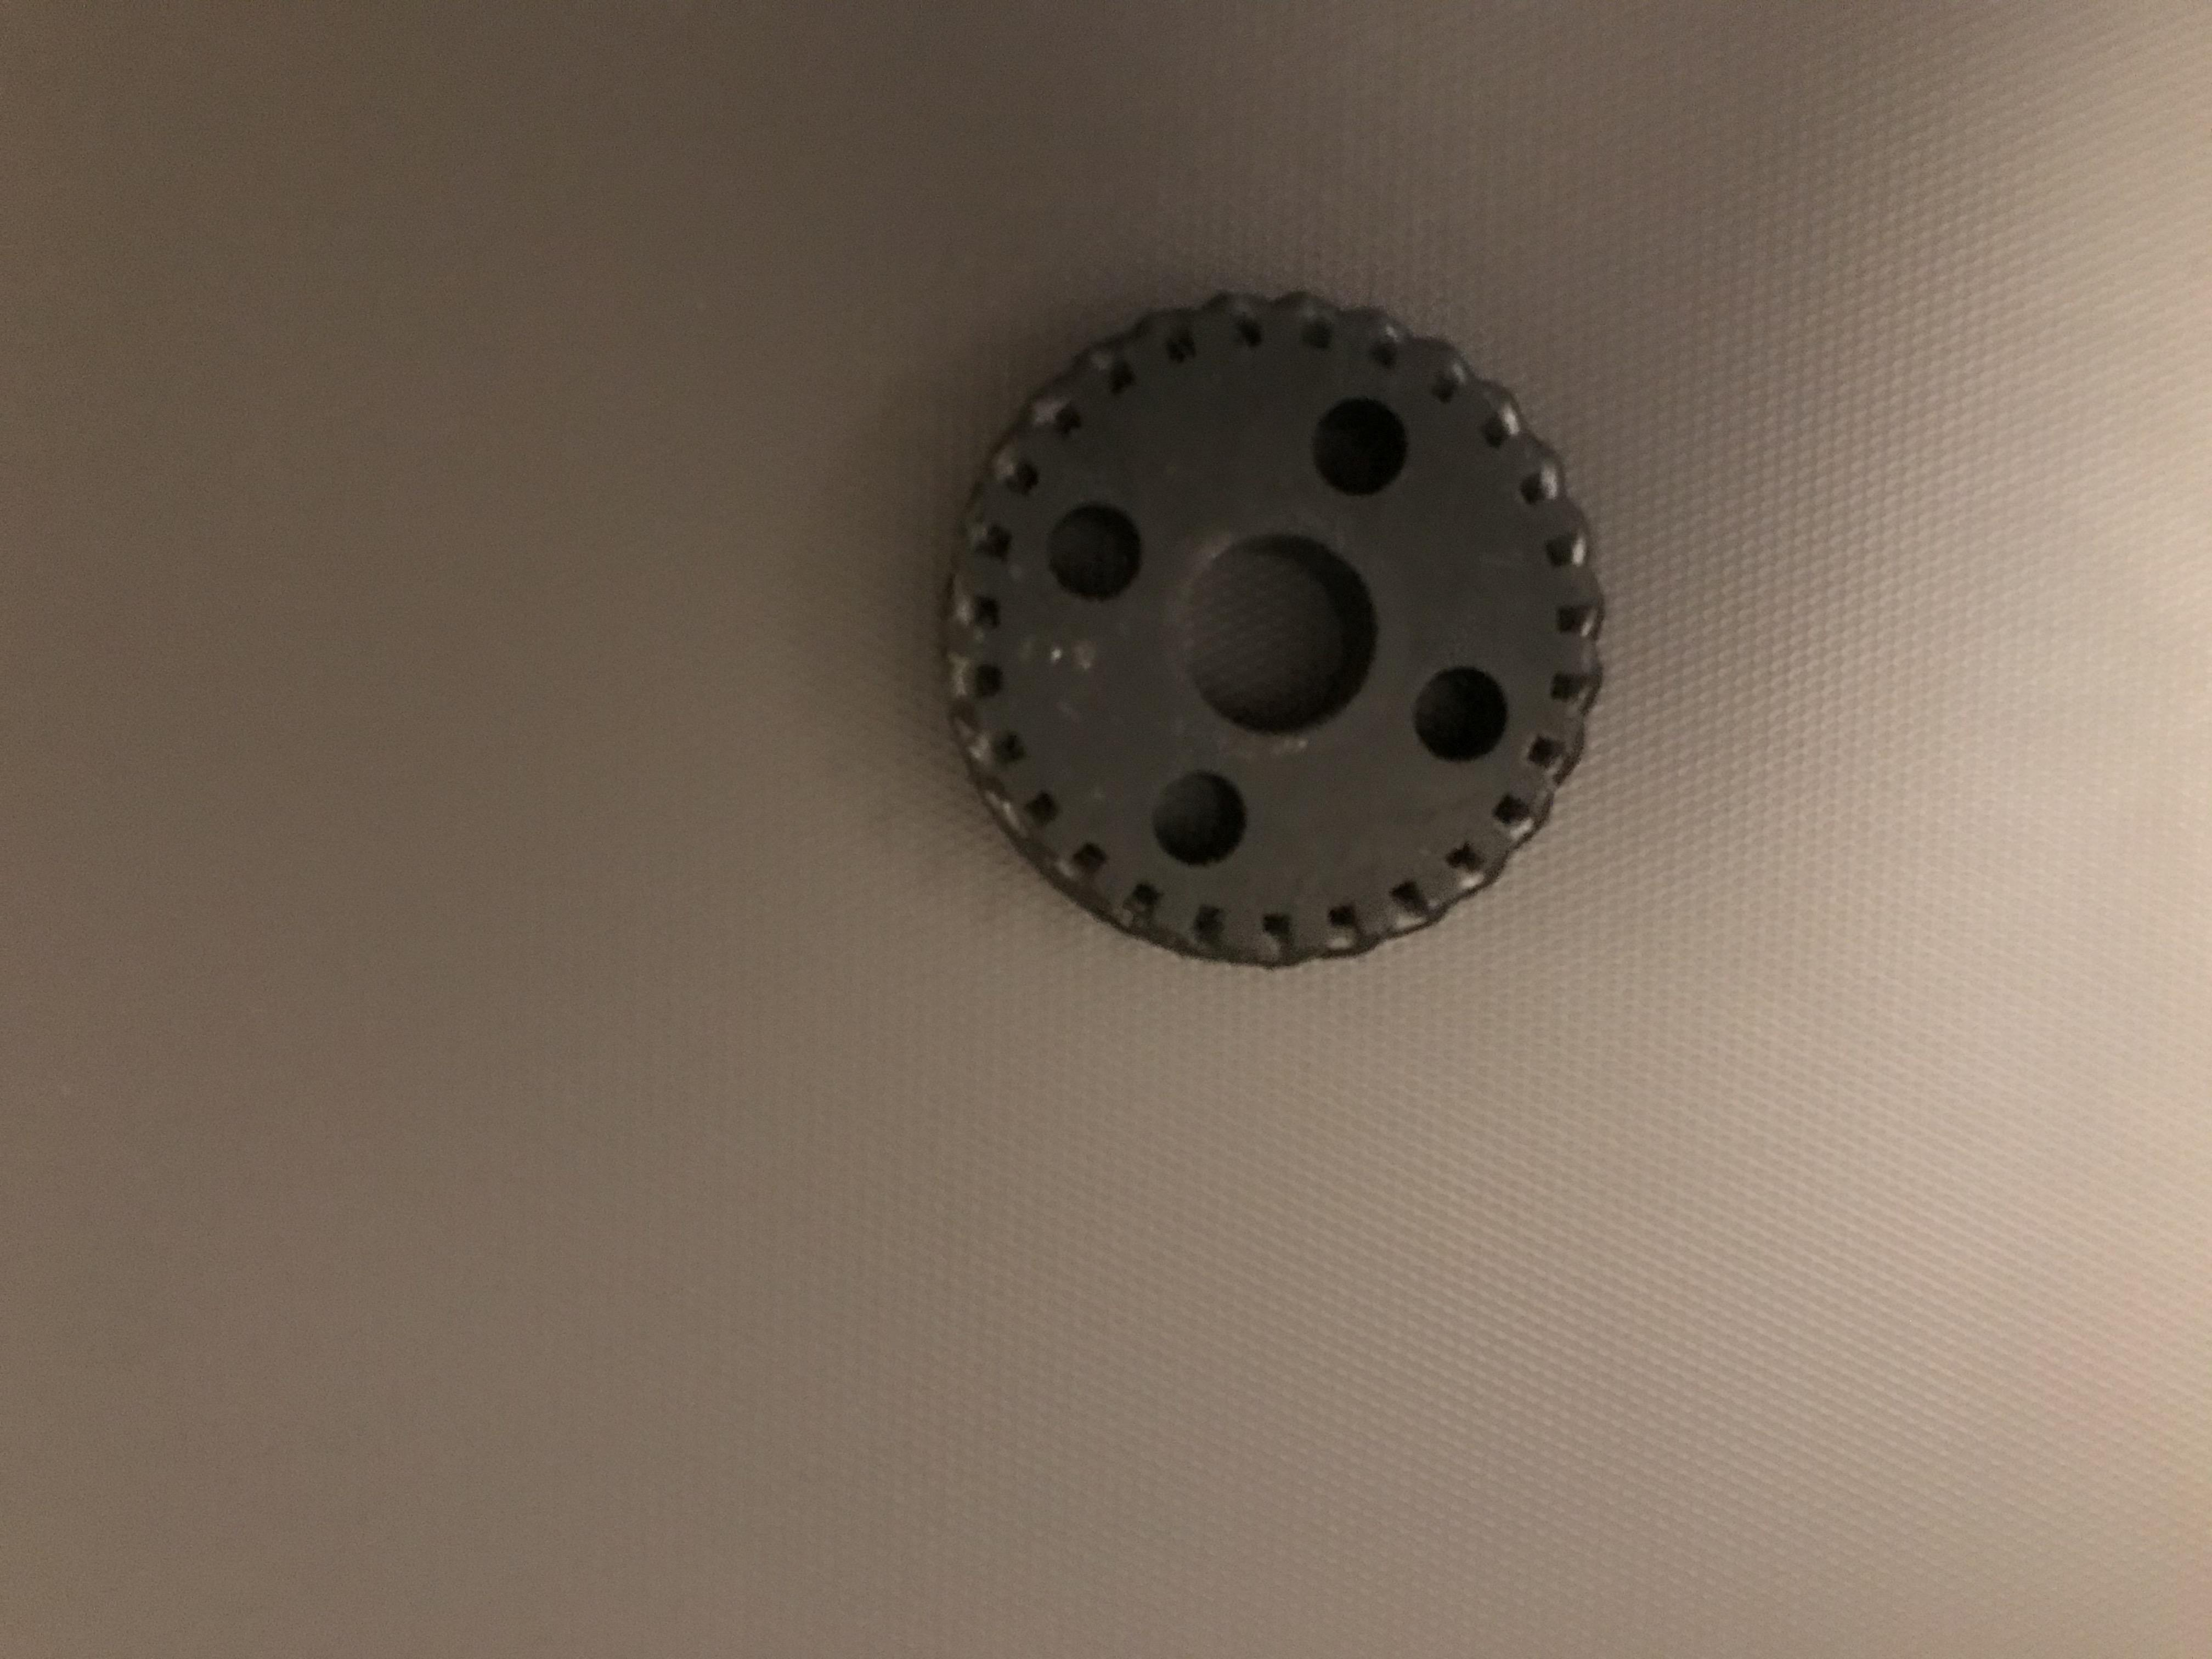Wheel: (934, 291, 1609, 972)
